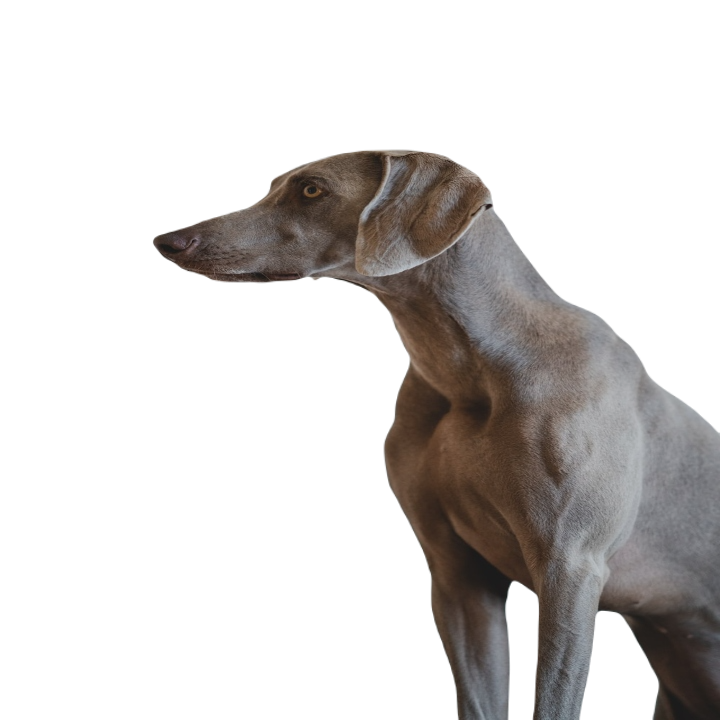Dog: (149, 142, 715, 719)
